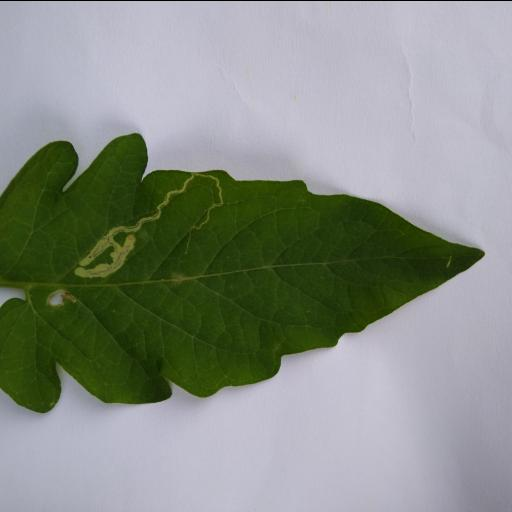Leaf Miner: (0, 128, 484, 414)
